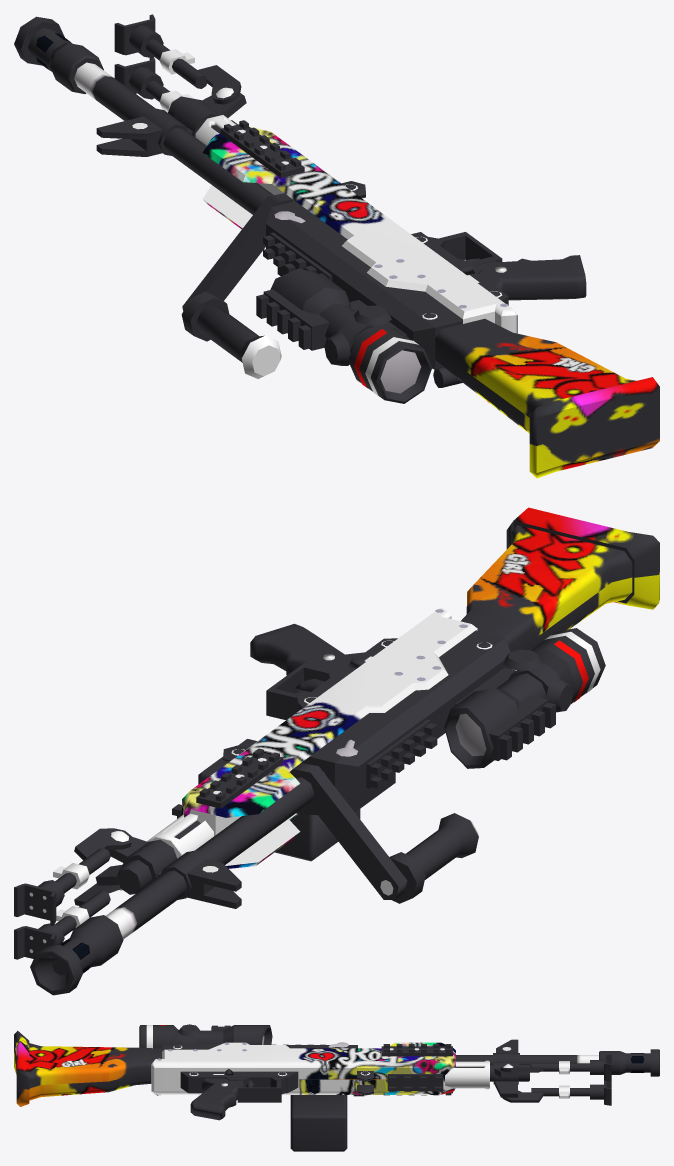
Rendered from maki.glb.
3 views of the same model, one above another, from view 1: azimuth 30°, elevation 25°; view 2: azimuth 150°, elevation 25°; view 3: azimuth 270°, elevation 25° (orthographic). The views are drawn at different scales.
Parts seen in each view (by area): view 1: Maki_Original_Weapon; view 2: Maki_Original_Weapon; view 3: Maki_Original_Weapon.
Boxes of the visible parts, x1,y1,x2,y2 form: Maki_Original_Weapon: (14, 14, 659, 478); Maki_Original_Weapon: (14, 507, 659, 995); Maki_Original_Weapon: (14, 1024, 659, 1151).
Bounding box in the file's own units: 0.2482 × 0.1103 × 0.8202.
1 material, 1 textured.
